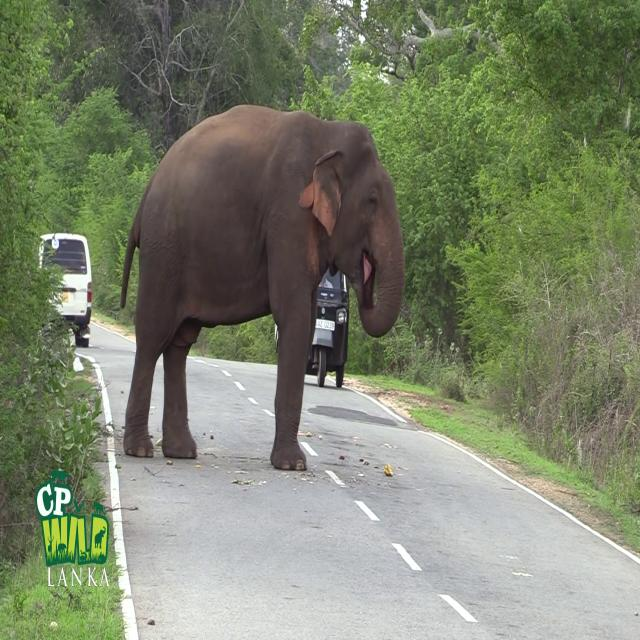Elephant: (119, 103, 405, 471)
